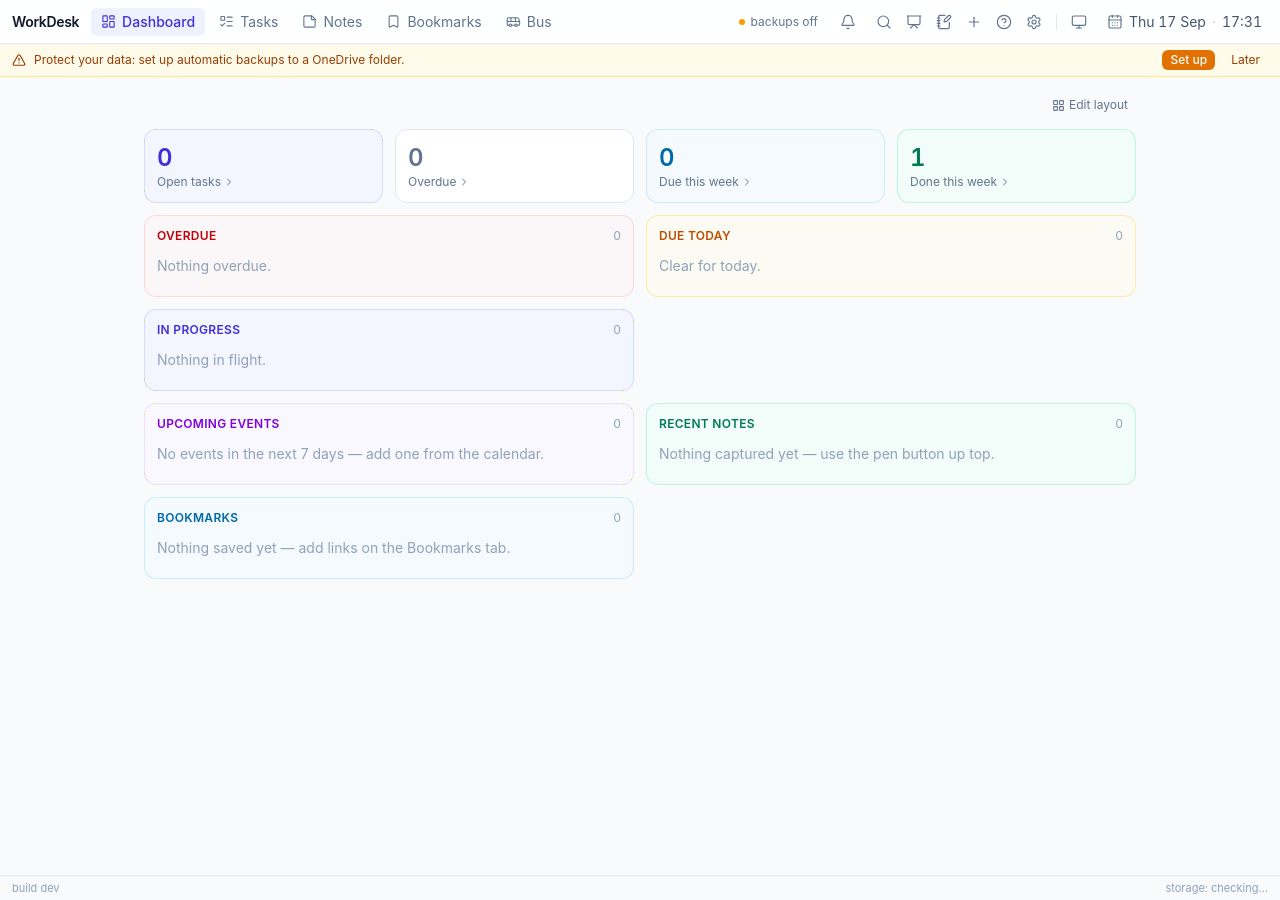
ReviewDrawer › regroups by project and closes on Escape
Click the button "1 Done this week".
click(1016, 166)  # box [897, 129, 1136, 203]
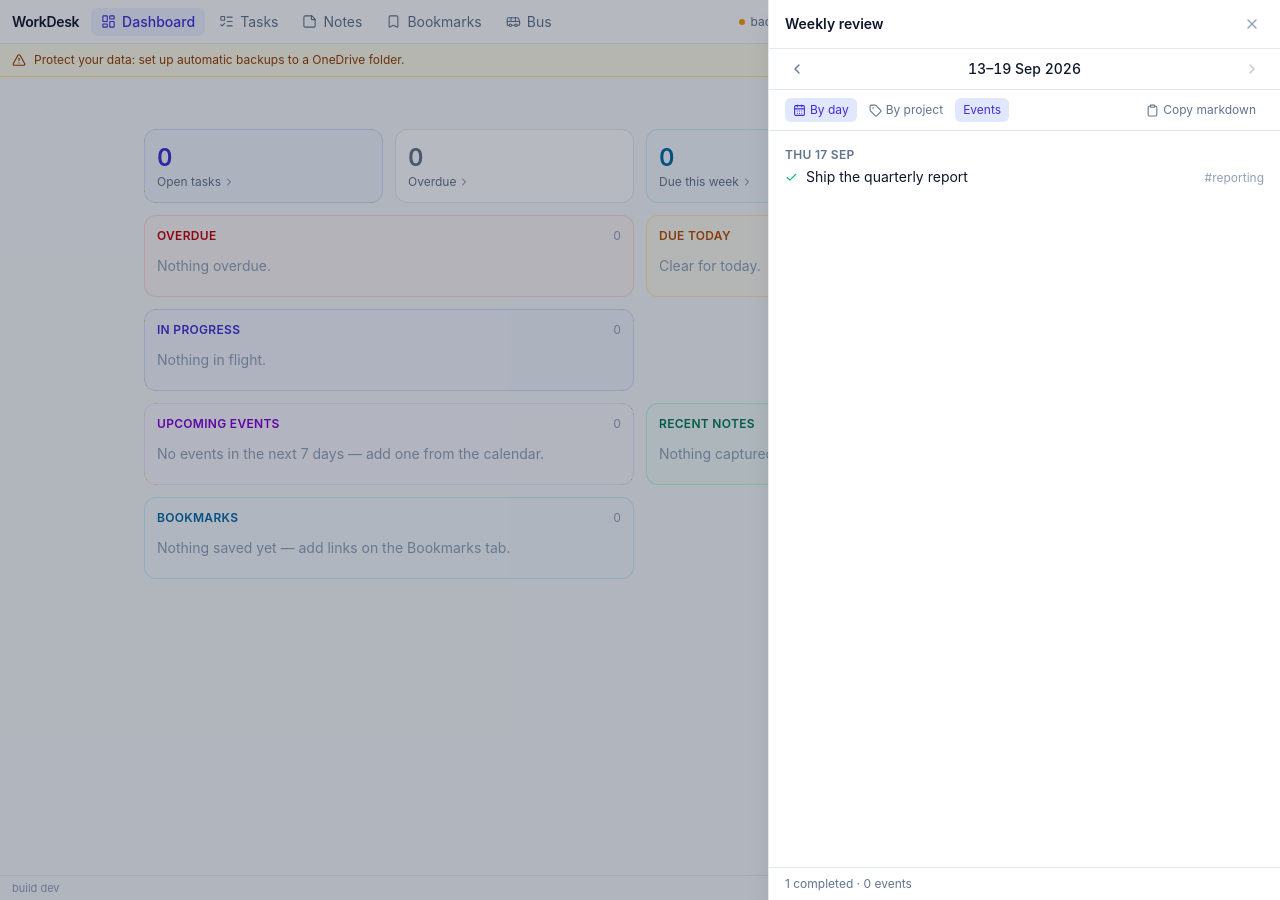
Click the button "By project".
click(906, 110)  # box [861, 98, 951, 122]
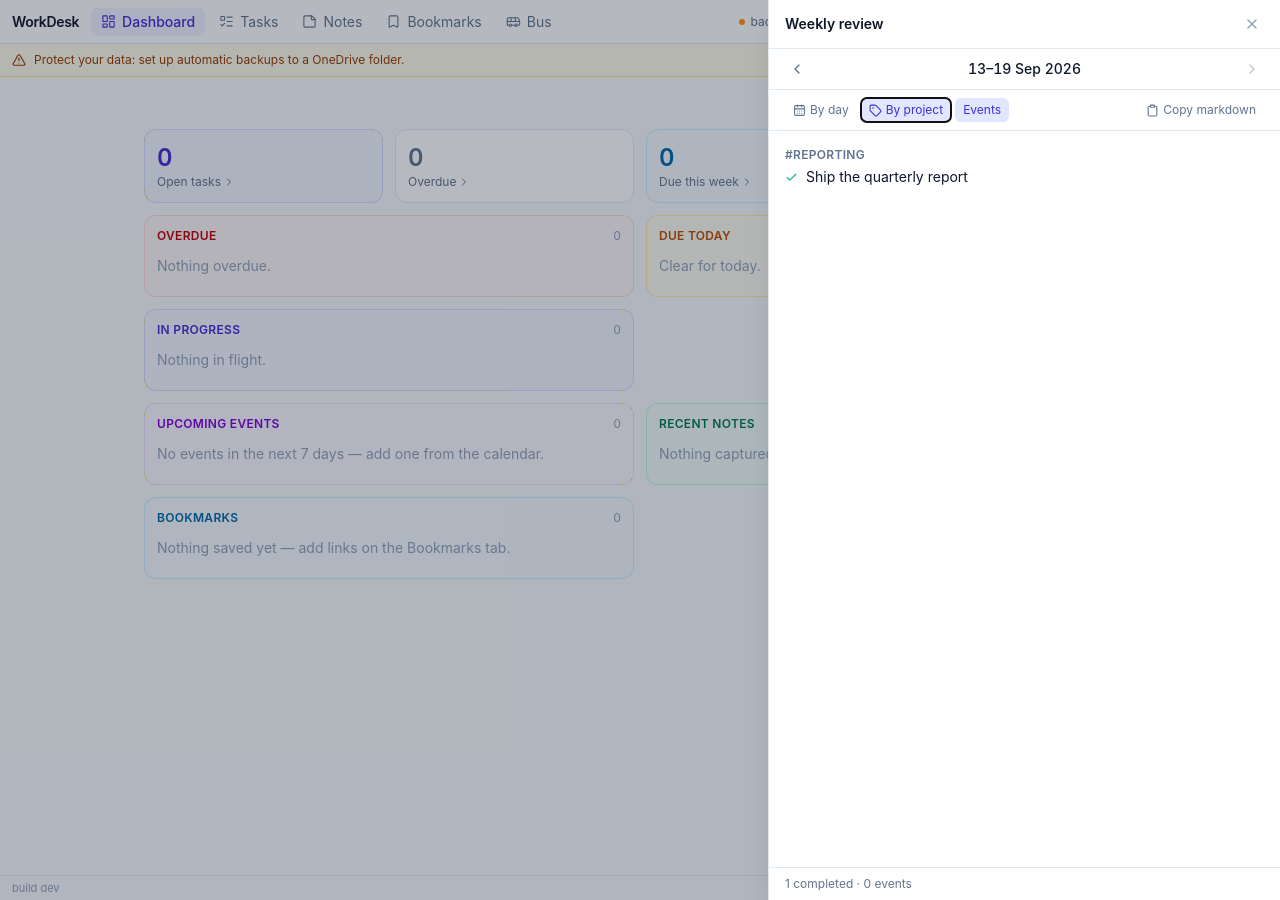
Now the heading "#reporting" is shown, box [785, 147, 865, 162]
Press Escape
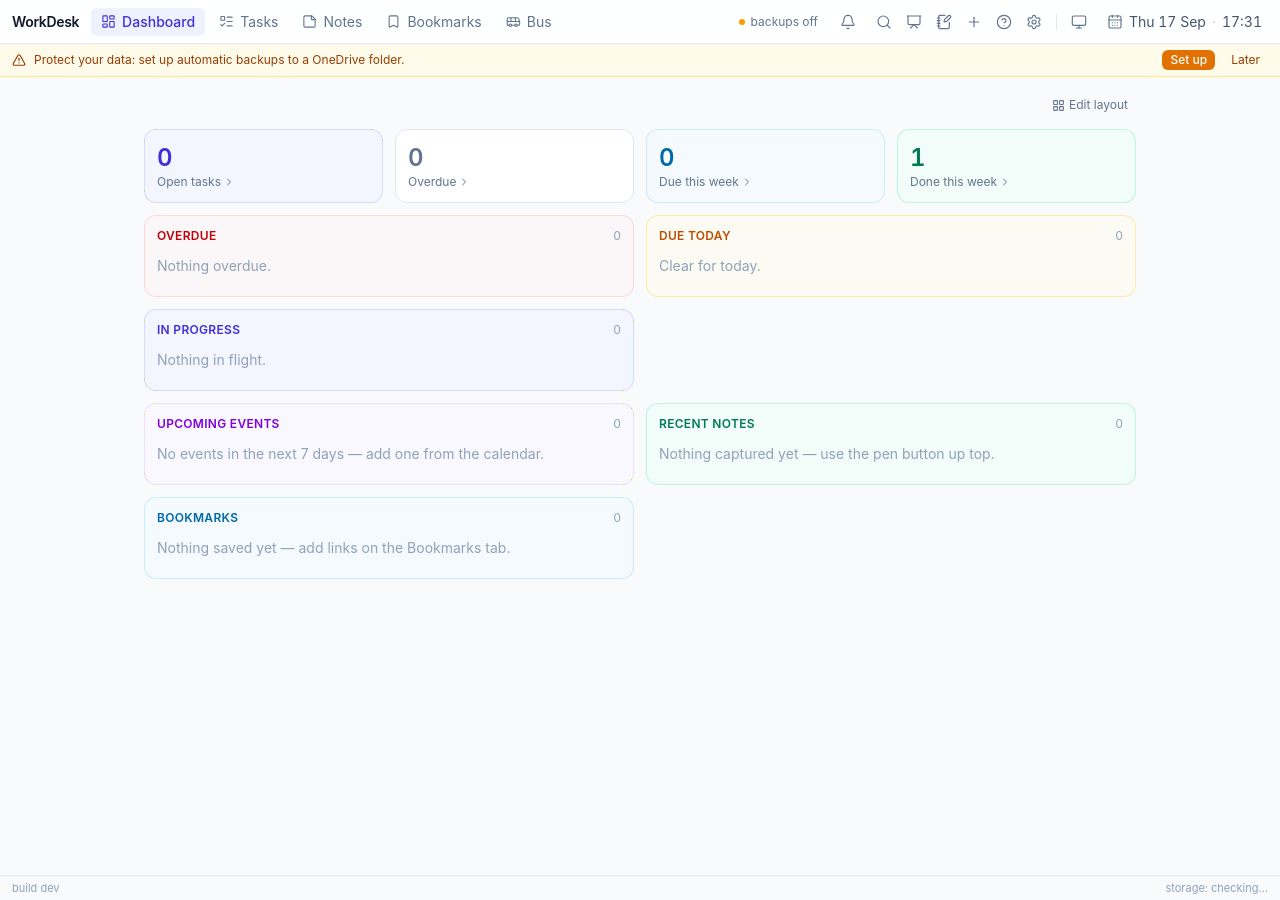
Now the heading "Weekly review" is gone
